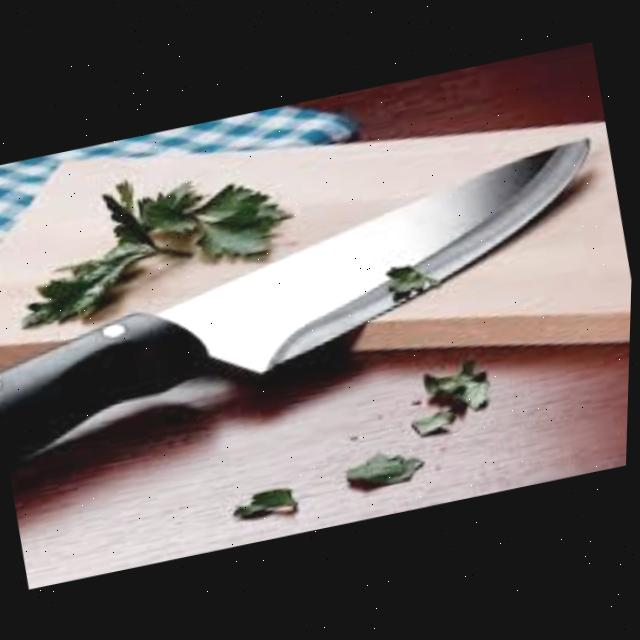Knife: (0, 136, 628, 467)
